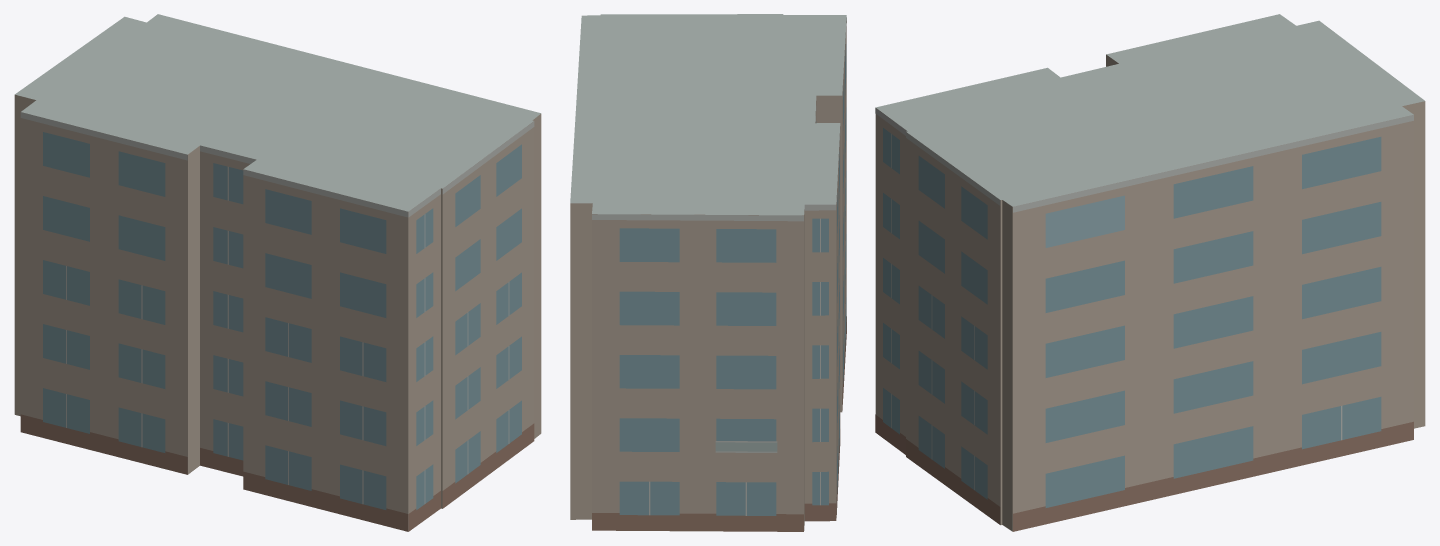
The model's file is survey-upis-32658027.glb.
3 views of the same model, side by side, from view 1: azimuth 30°, elevation 25°; view 2: azimuth 150°, elevation 25°; view 3: azimuth 270°, elevation 25° (orthographic). The views are drawn at different scales.
Parts seen in each view (by area): view 1: survey-upis-32658027.tmp; view 2: survey-upis-32658027.tmp; view 3: survey-upis-32658027.tmp.
Boxes of the visible parts, x1,y1,x2,y2 form: survey-upis-32658027.tmp: (14,14,541,531); survey-upis-32658027.tmp: (570,14,846,531); survey-upis-32658027.tmp: (875,14,1425,531).
Size of the model in its own units: 16.8 by 13.2 by 20.25.
